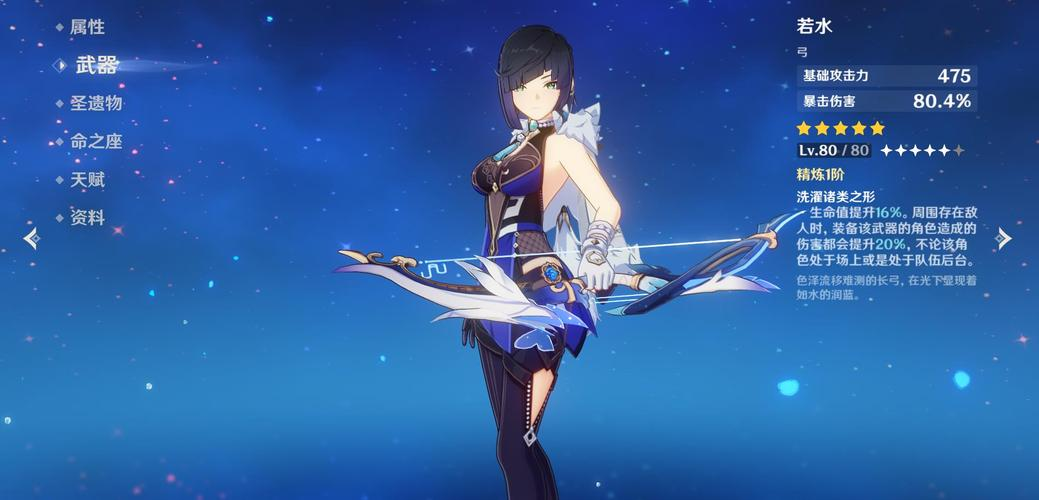夜兰: (459, 25, 625, 500)
